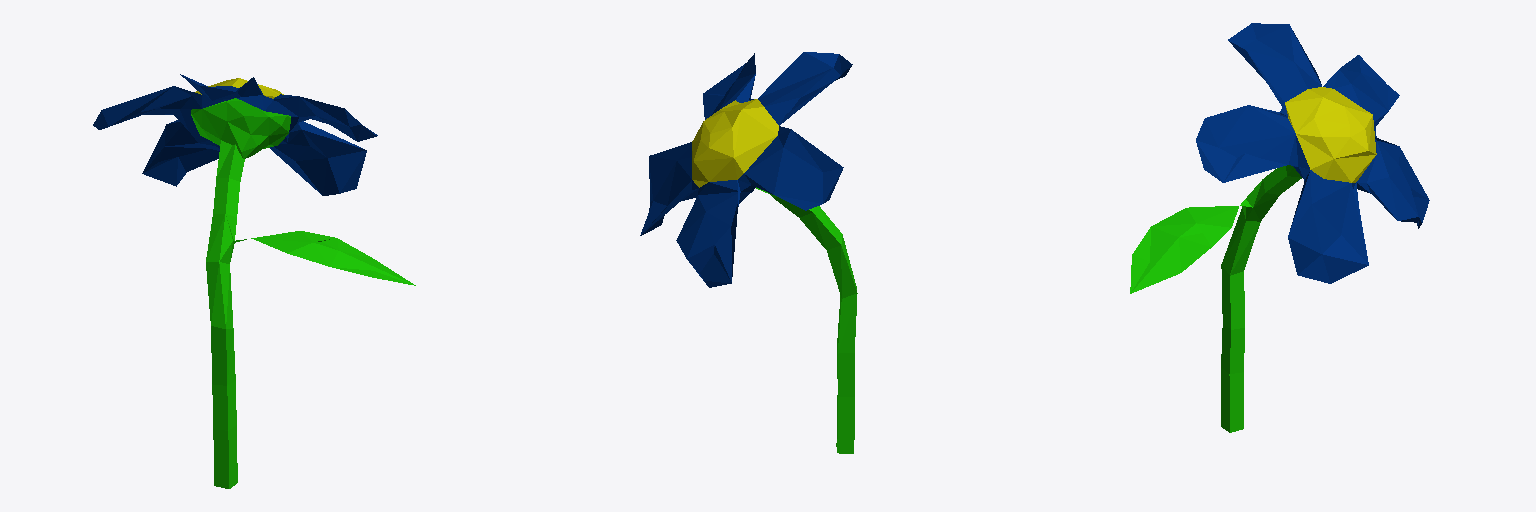
File: Flower7.obj
The picture shows the model from 3 angles: view 1: azimuth 30°, elevation 25°; view 2: azimuth 150°, elevation 25°; view 3: azimuth 270°, elevation 25°; orthographic projection.
Parts seen in each view (by area): view 1: Flower4.005_Plane.019; view 2: Flower4.005_Plane.019; view 3: Flower4.005_Plane.019.
Boxes of the visible parts, <box> form: Flower4.005_Plane.019: <box>93,74,415,488</box>; Flower4.005_Plane.019: <box>640,52,857,453</box>; Flower4.005_Plane.019: <box>1130,23,1429,432</box>.
Bounding box in the file's own units: 0.8978 × 1.48 × 1.01.